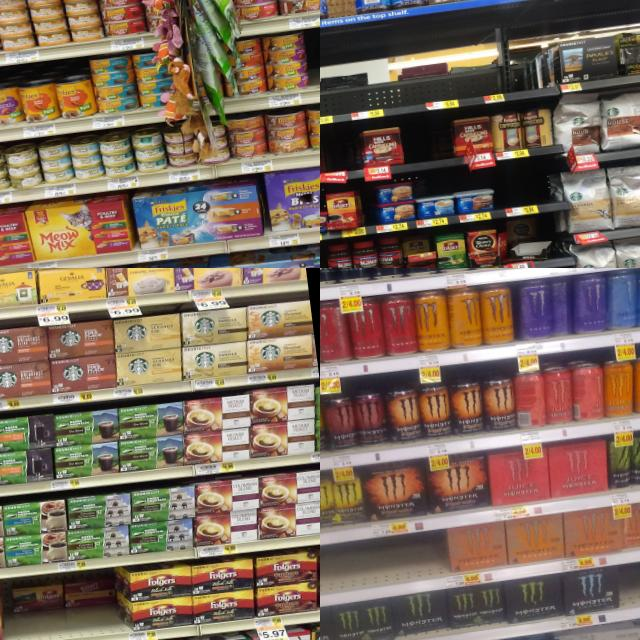100% O.O.S: (320, 533, 445, 610), (346, 68, 422, 120), (492, 162, 548, 216), (420, 62, 478, 110), (476, 54, 528, 104), (402, 120, 452, 170), (324, 134, 354, 180), (320, 78, 348, 126), (618, 559, 640, 619)
100- O.O.S: (306, 25, 320, 102)
